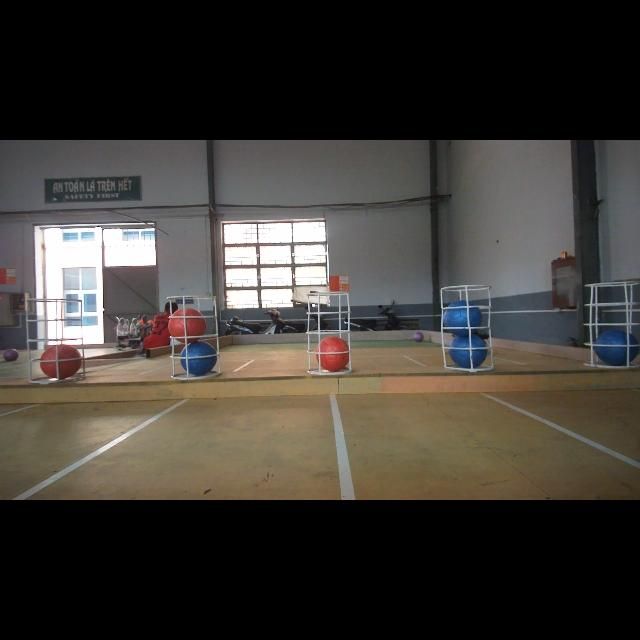B: (596, 328, 638, 364), (442, 300, 482, 336), (179, 341, 217, 375), (449, 334, 486, 368)
R: (168, 306, 206, 342), (40, 344, 80, 378), (314, 336, 350, 372)
